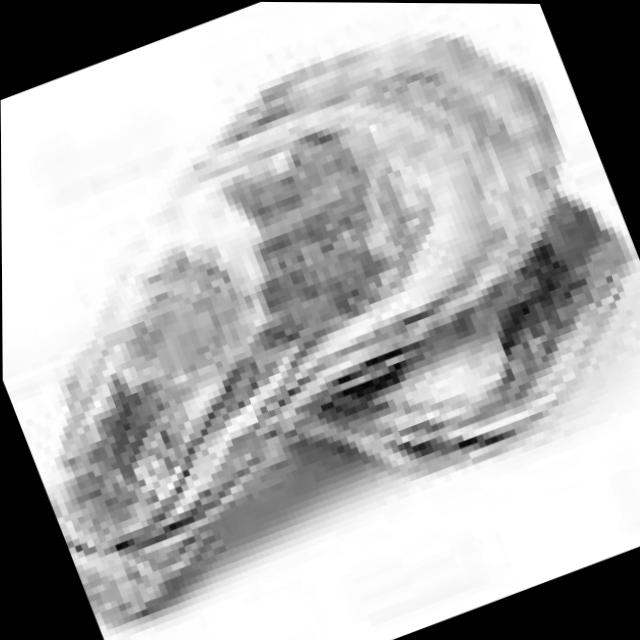Oyster-Closed: (312, 199, 624, 466)
Oyster-Indeterminate: (60, 37, 557, 610)
